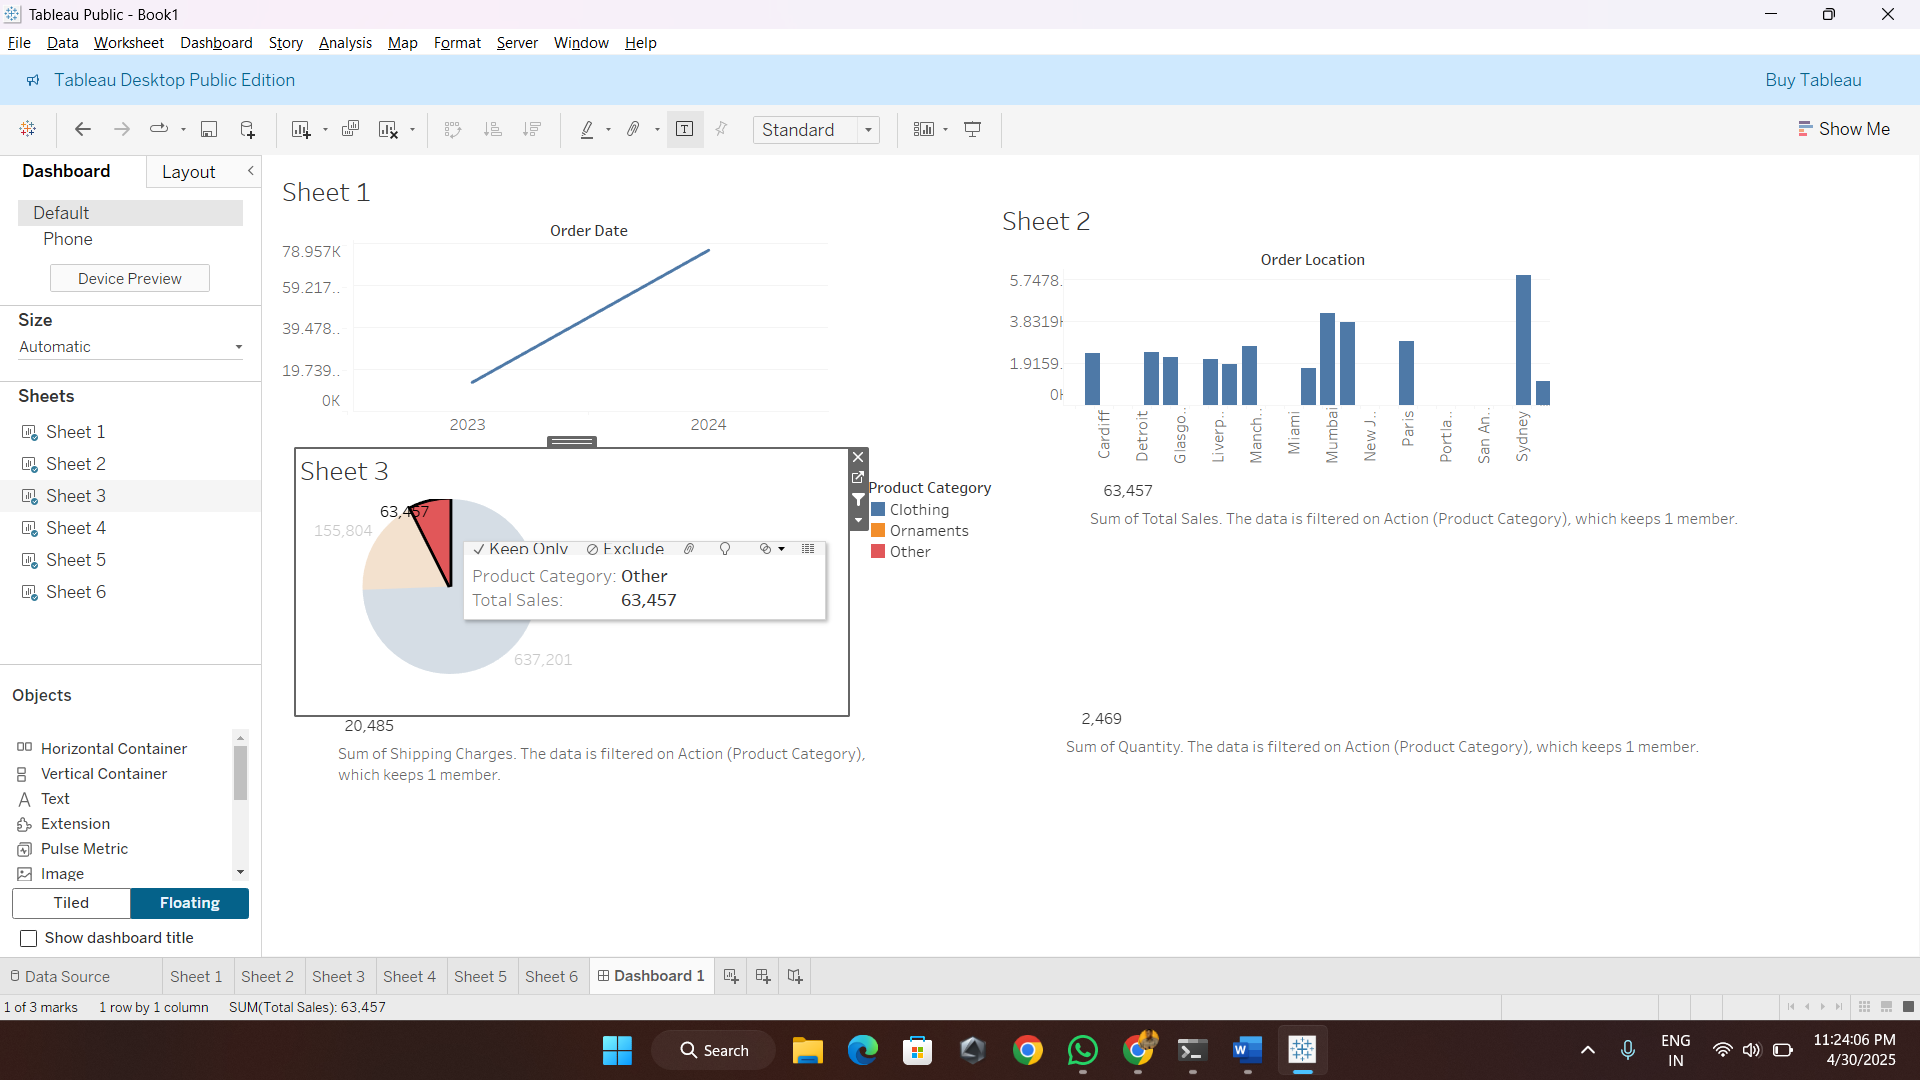

This screenshot's page, from the dashboard's own definition file:
{"tool":"tableau","page":{"name":"Dashboard 1","canvas":[1000,1000],"units":"permille","ordinal":0},"visuals":[{"type":"worksheet","title":"Sheet 1","mark":"Automatic","rows":["Sales per Unit"],"cols":["Order Date"],"box":[9.8,19,333,332.5]},{"type":"worksheet","title":"Sheet 2","mark":"Automatic","rows":["Shipping Charges"],"cols":["Order Location"],"box":[444.3,54.4,333,332.5]},{"type":"worksheet","title":"Sheet 3","mark":"Pie","box":[20.7,366.6,333,332.5]},{"type":"legend","title":"Sheet 3","param":"[federated.0y52ri00w7sm6818tsr5o18xbzud].[none:Product Category:nk]","box":[365.7,402,152.8,107.5]},{"type":"worksheet","title":"Sheet 4","mark":"Text","box":[499.7,404.5,395.9,277.2]},{"type":"worksheet","title":"Sheet 6","mark":"Automatic","box":[485.2,689.1,415.2,275.9]}]}

Visuals, with their boxes on the dashboard's canvas, which has no fixed pixel size, in thousandths of its width and height (x1, y1, x2, y2). These are canvas units, not pixel positions in the 1920x1080 screenshot, which may show the page scaled, cropped or inside an application window:
"Sheet 1" worksheet: bbox(10, 19, 343, 352)
"Sheet 2" worksheet: bbox(444, 54, 777, 387)
"Sheet 3" worksheet (Pie marks): bbox(21, 367, 354, 699)
"Sheet 3" legend: bbox(366, 402, 518, 510)
"Sheet 4" worksheet (Text marks): bbox(500, 404, 896, 682)
"Sheet 6" worksheet: bbox(485, 689, 900, 965)
